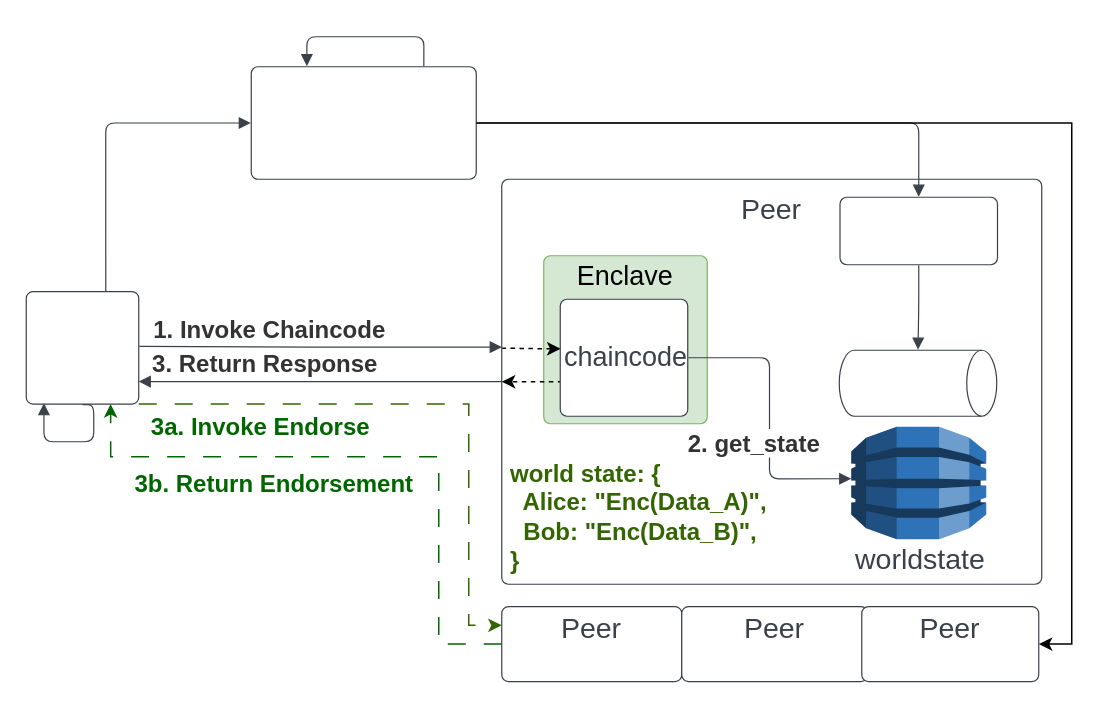
This 1110x708 diagram has some shape labels left out. Here are the shapes that lost their labels. From the top down, the centre of each, then its label:
[363,122]: Ordering Service
[918,230]: Block & Txn Validator
[82,347]: Client
[917,382]: Ledger
